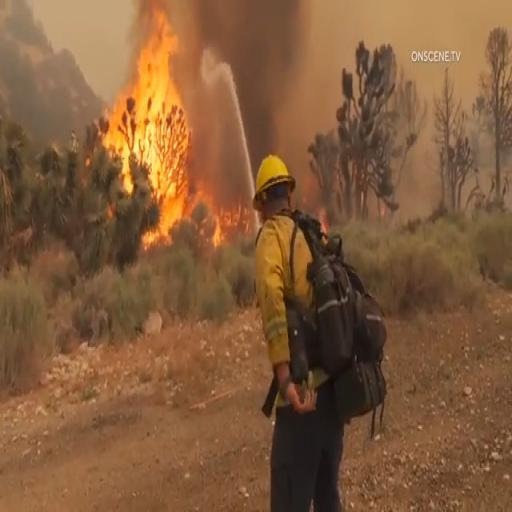fire: (92, 4, 198, 249)
